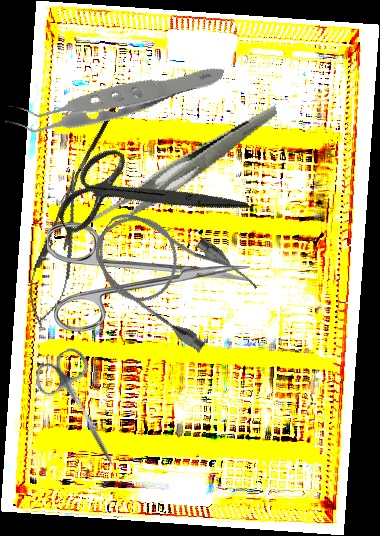Cannula: (77, 188, 263, 359)
Dressing Forceps: (64, 105, 298, 246)
Hook Surgical: (60, 88, 127, 207)
Iris Scissors: (40, 101, 252, 293), (47, 222, 250, 332), (29, 344, 139, 479)
Needle Holder: (20, 166, 96, 330)
Tissue Forceps: (1, 9, 226, 183)
